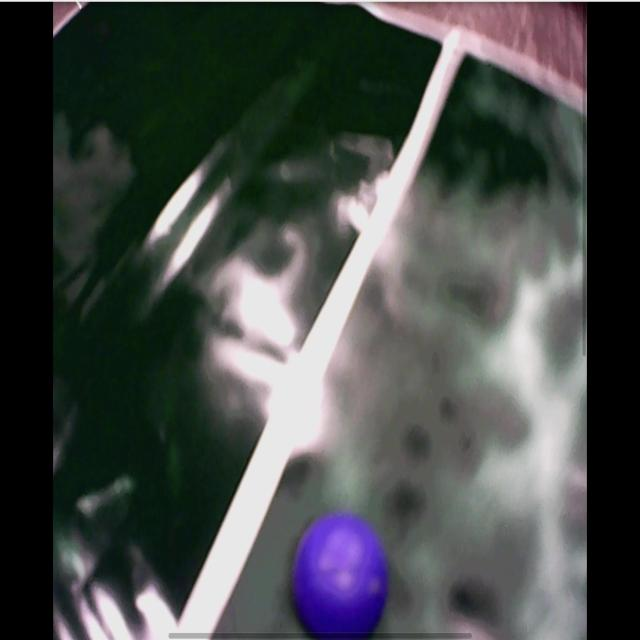ball: (294, 512, 388, 638)
